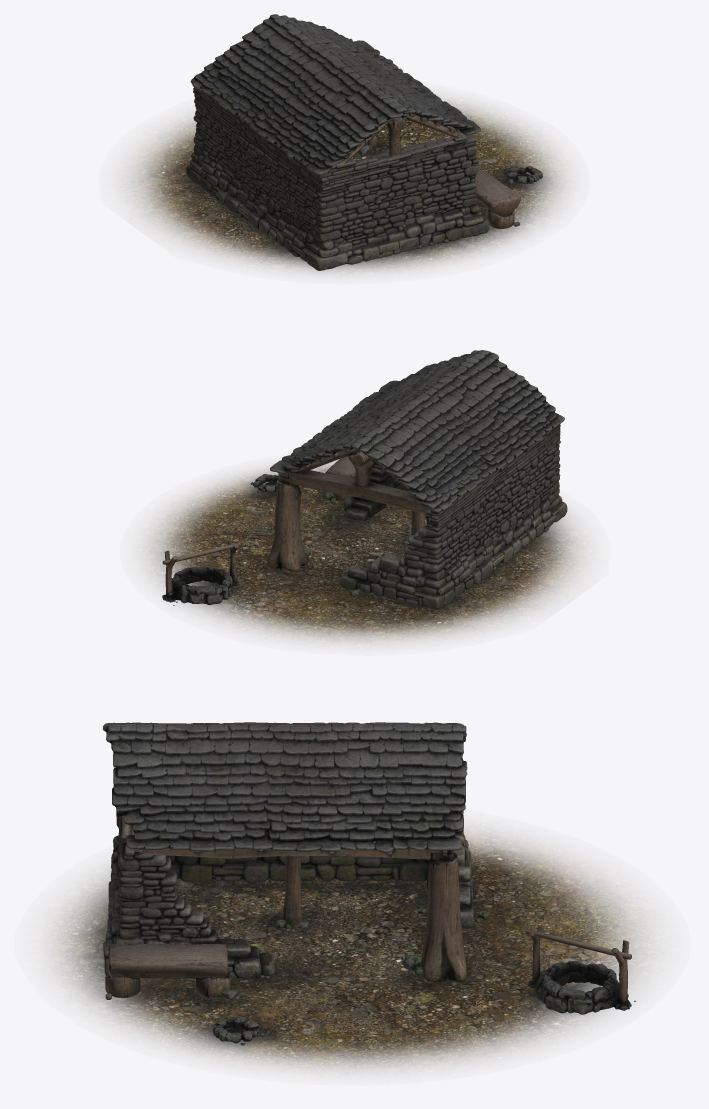
The model's file is sheep_house.glb.
3 renders of one model, top to bottom at view 1: azimuth 30°, elevation 25°; view 2: azimuth 150°, elevation 25°; view 3: azimuth 270°, elevation 25°, orthographic. The views are drawn at different scales.
Parts seen in each view (by area): view 1: Object_2, Object_3, Object_4, Object_5, Object_6; view 2: Object_4, Object_3, Object_2, Object_5, Object_7, Object_8, Object_6; view 3: Object_4, Object_3, Object_2, Object_5, Object_7, Object_6, Object_8.
Part boxes in pixels (x1,y1,x2,y2): Object_2: [186, 87, 489, 270]; Object_3: [190, 14, 481, 175]; Object_4: [128, 98, 565, 273]; Object_5: [335, 114, 520, 228]; Object_6: [357, 145, 542, 226]; Object_4: [146, 460, 583, 643]; Object_3: [270, 350, 564, 512]; Object_2: [340, 424, 567, 609]; Object_5: [267, 448, 428, 573]; Object_7: [162, 475, 404, 604]; Object_8: [162, 540, 240, 602]; Object_6: [162, 474, 408, 605]; Object_4: [52, 828, 649, 1070]; Object_3: [103, 722, 467, 852]; Object_2: [103, 756, 473, 979]; Object_5: [105, 812, 466, 998]; Object_7: [213, 929, 631, 1043]; Object_6: [105, 908, 636, 1045]; Object_8: [525, 926, 631, 1012].
Bounding box in the file's own units: 32.4 × 10.5 × 32.4.
Materials: 5 (5 with a texture image).
